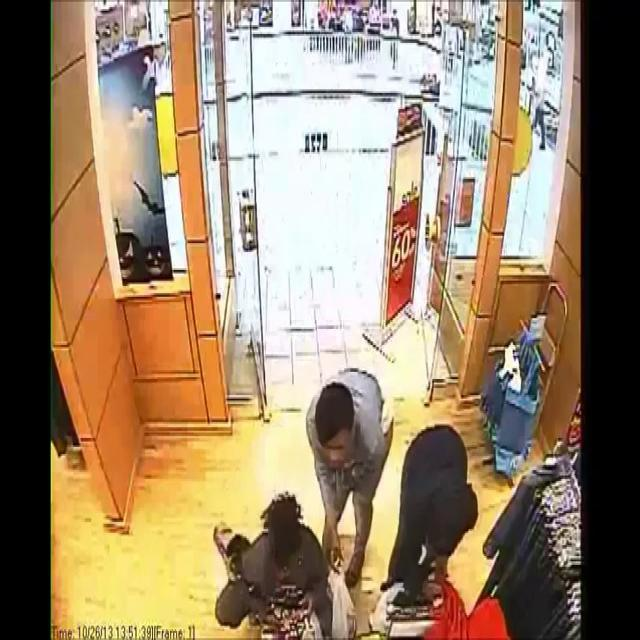Product: (422, 572, 468, 640), (269, 560, 303, 640)
normal: (298, 361, 393, 516)
shoplifting: (202, 438, 339, 640), (372, 426, 489, 640)
